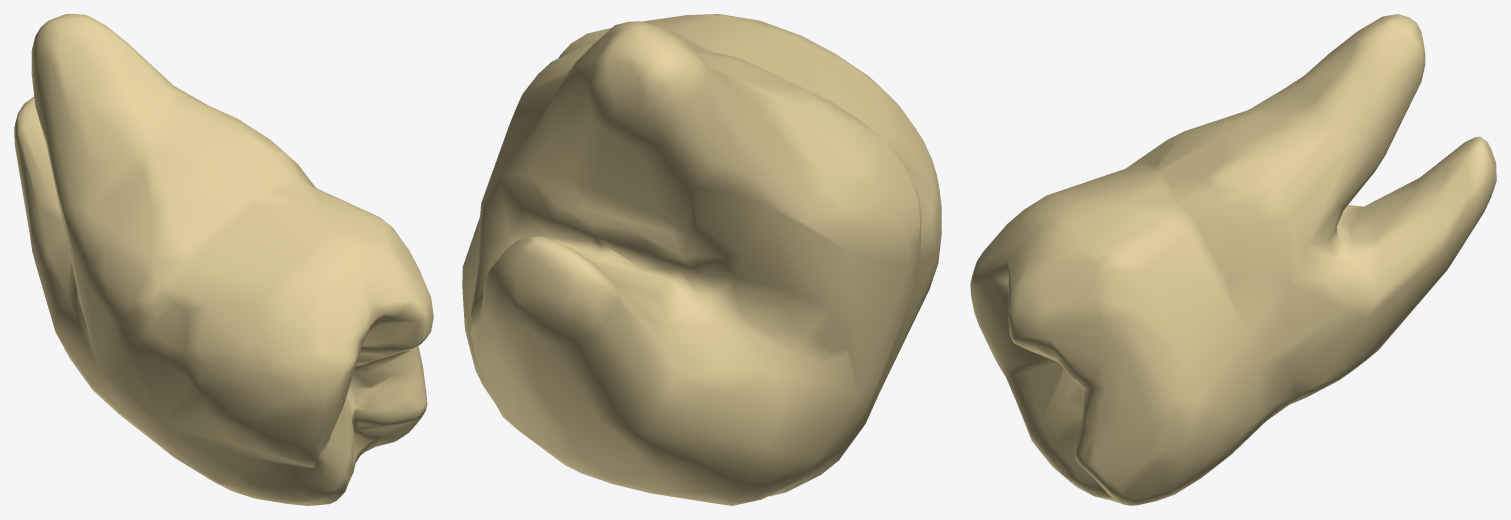
3 views of the same model, side by side, from view 1: azimuth 30°, elevation 25°; view 2: azimuth 150°, elevation 25°; view 3: azimuth 270°, elevation 25° (orthographic). The views are drawn at different scales.
Parts seen in each view (by area): view 1: 右侧下颌第二磨牙; view 2: 右侧下颌第二磨牙; view 3: 右侧下颌第二磨牙.
Part boxes in pixels (x1,y1,x2,y2): 右侧下颌第二磨牙: (14,14,433,505); 右侧下颌第二磨牙: (462,14,941,505); 右侧下颌第二磨牙: (970,14,1496,505).
Size of the model in its own units: 0.0174 by 0.0238 by 0.0269.
